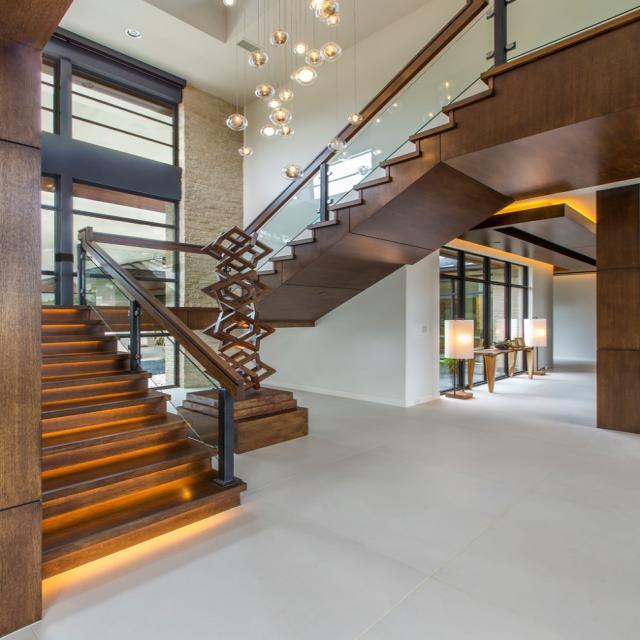stairs: (38, 303, 246, 580)
